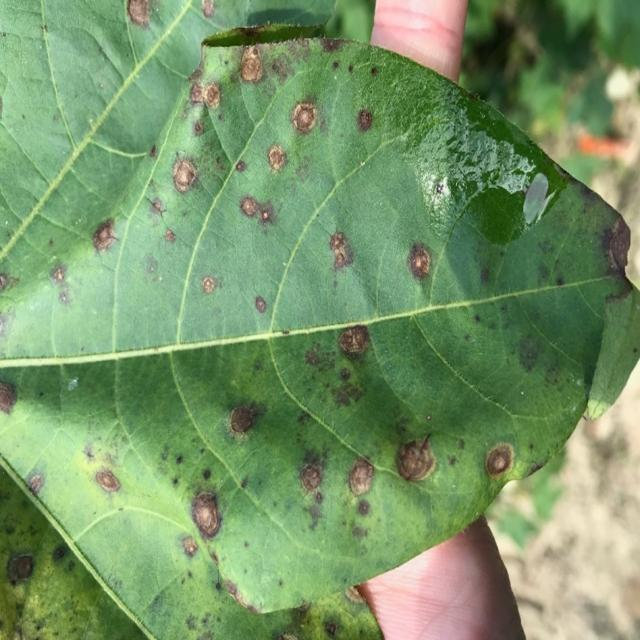Cotton Ball Rot: (393, 430, 439, 488), (188, 488, 224, 543), (168, 154, 201, 199), (404, 239, 434, 287), (288, 97, 319, 140)
Target Spot: (2, 14, 636, 633)
